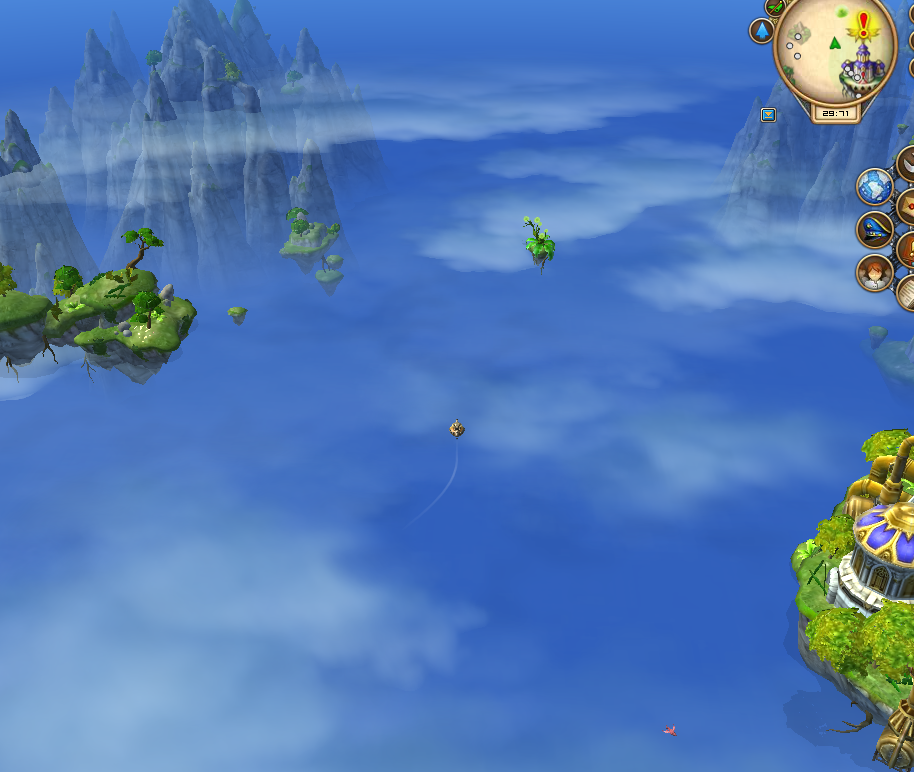dandelion-full: (517, 209, 564, 272)
